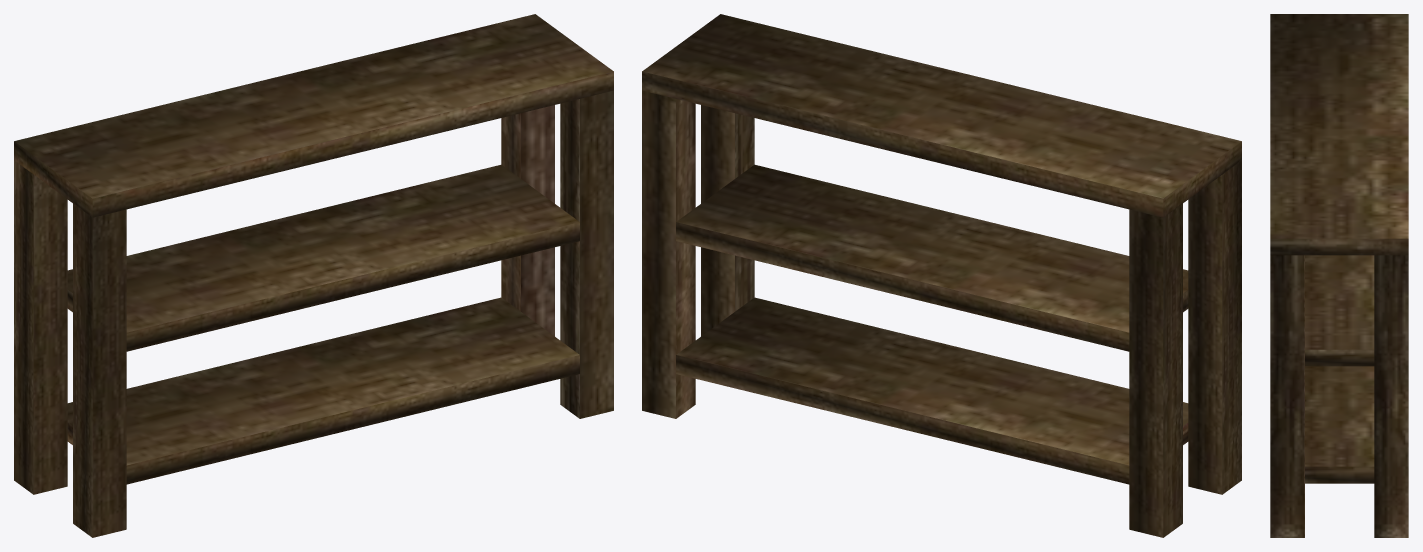
Rendered from OC_MOB_SHELVES_SMALL.glb.
3 renders of one model, left to right at view 1: azimuth 30°, elevation 25°; view 2: azimuth 150°, elevation 25°; view 3: azimuth 270°, elevation 25°, orthographic. The views are drawn at different scales.
Parts seen in each view (by area): view 1: Mesh; view 2: Mesh; view 3: Mesh.
Boxes of the visible parts, x1=… form: Mesh: x1=14, y1=14, x2=613, y2=537; Mesh: x1=642, y1=14, x2=1241, y2=537; Mesh: x1=1270, y1=14, x2=1408, y2=537.
Size of the model in its own units: 2.3 by 1.43 by 0.6.
1 material, 1 textured.
